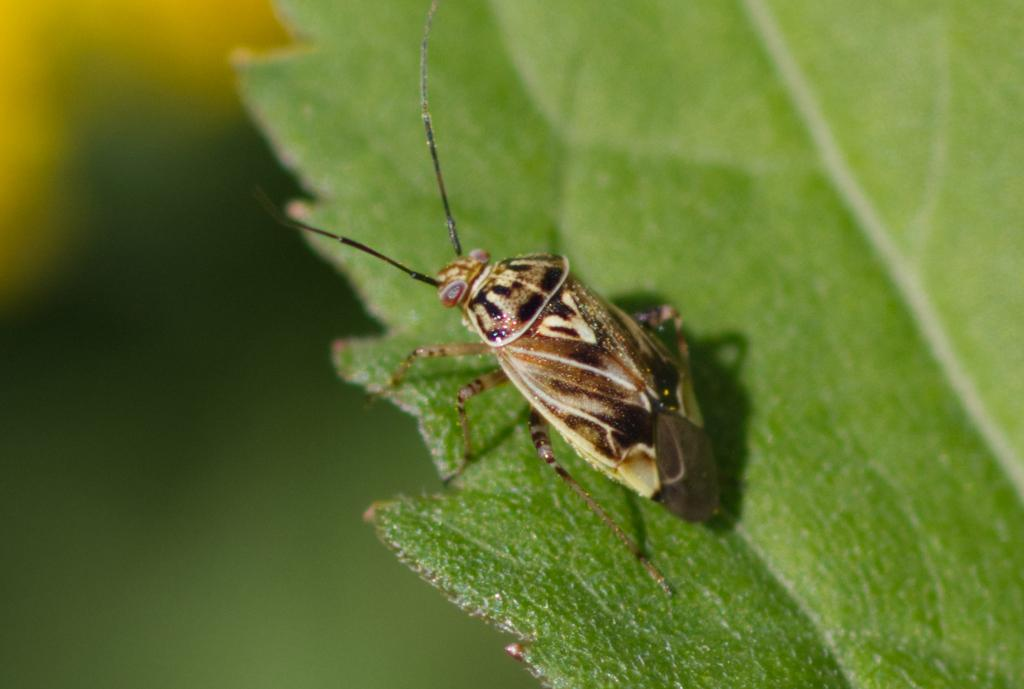plant_bugs: (235, 9, 888, 653)
